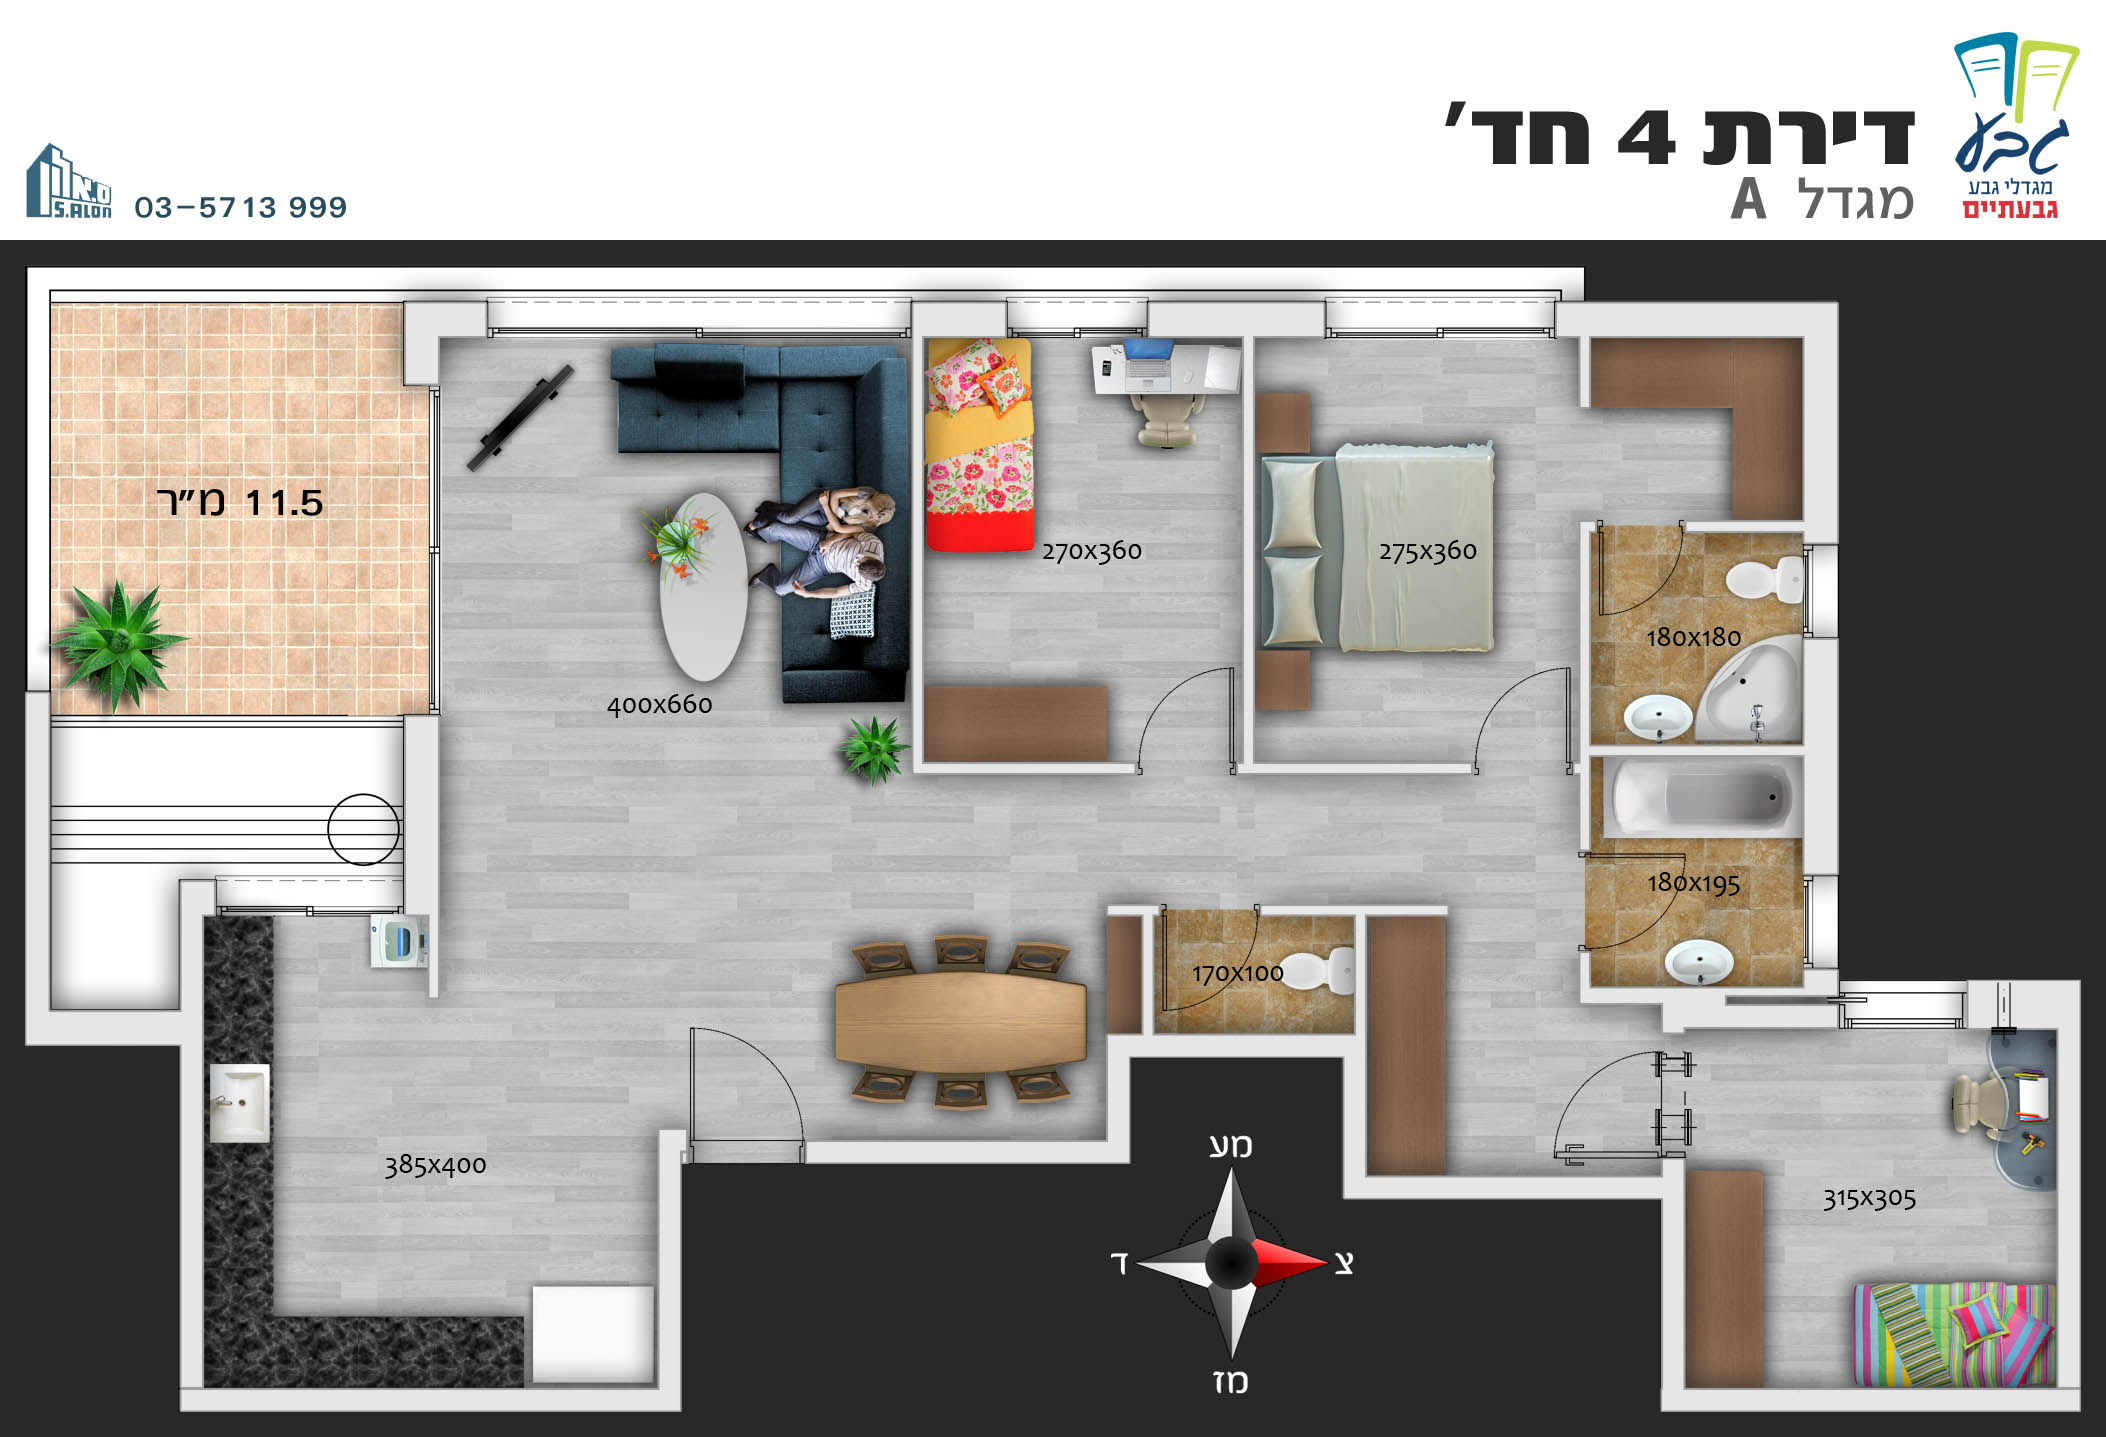door: (675, 1003, 823, 1123), (1535, 1051, 1652, 1168), (1480, 659, 1584, 755), (1127, 659, 1242, 743)
wall: (178, 875, 202, 1387), (1555, 302, 1840, 339), (26, 690, 54, 1000), (1800, 640, 1839, 872), (1802, 318, 1836, 542), (1146, 298, 1327, 338)
window: (1335, 315, 1551, 342), (1839, 1008, 1970, 1031)
